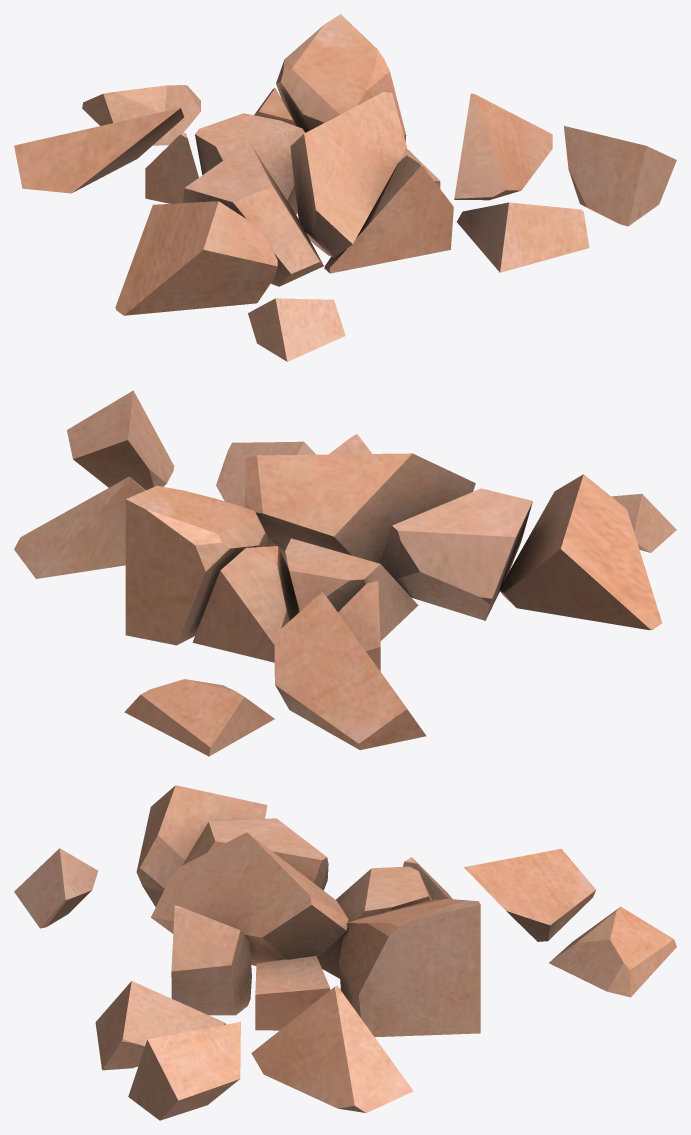
Rendered from Piedras2.fbx.
The picture shows the model from 3 angles, top to bottom: view 1: azimuth 30°, elevation 25°; view 2: azimuth 150°, elevation 25°; view 3: azimuth 270°, elevation 25°; orthographic projection. The views are drawn at different scales.
Visible parts, largest first — view 1: Cube_cell.014; view 2: Cube_cell.014; view 3: Cube_cell.014.
Part boxes in pixels (box(x1,y1,x2,y2)): Cube_cell.014: box(14, 14, 676, 361); Cube_cell.014: box(14, 390, 676, 756); Cube_cell.014: box(14, 785, 676, 1120).
Size of the model in its own units: 676 by 145 by 672.
